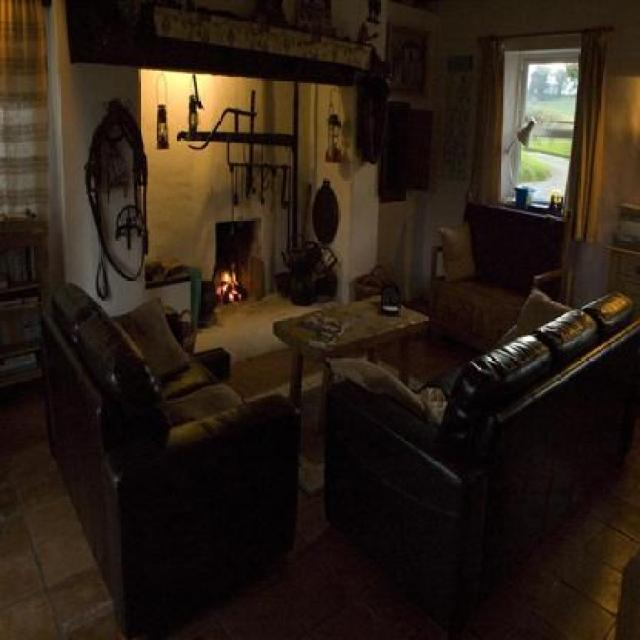Fire: (216, 260, 245, 298)
